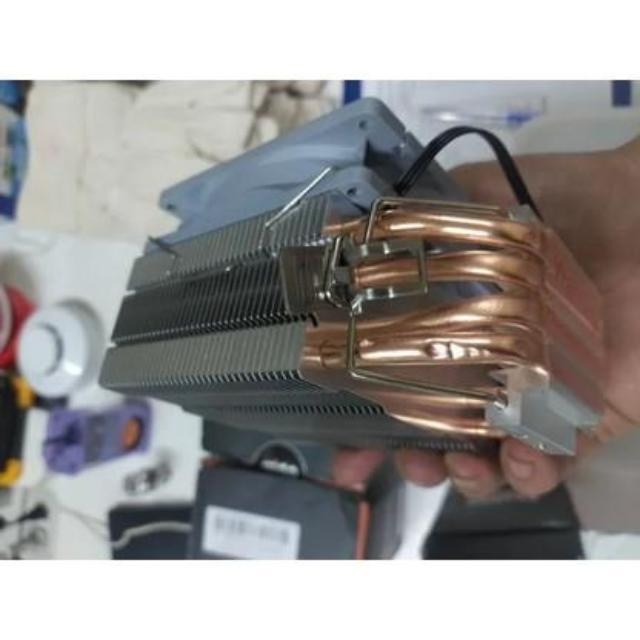CPU_Fan: (90, 101, 612, 466)
